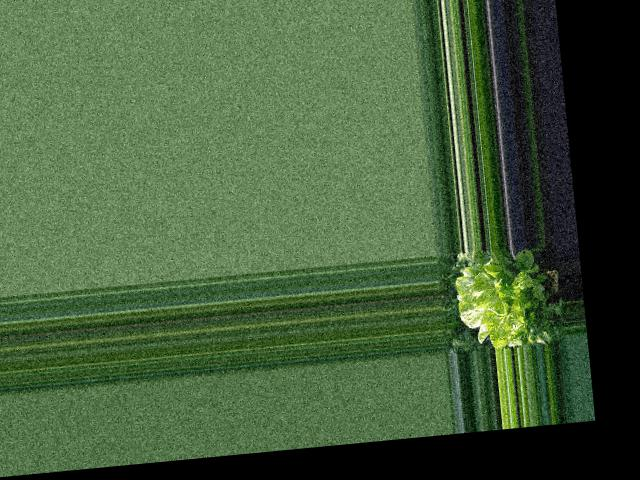lettuce: (454, 248, 546, 342)
